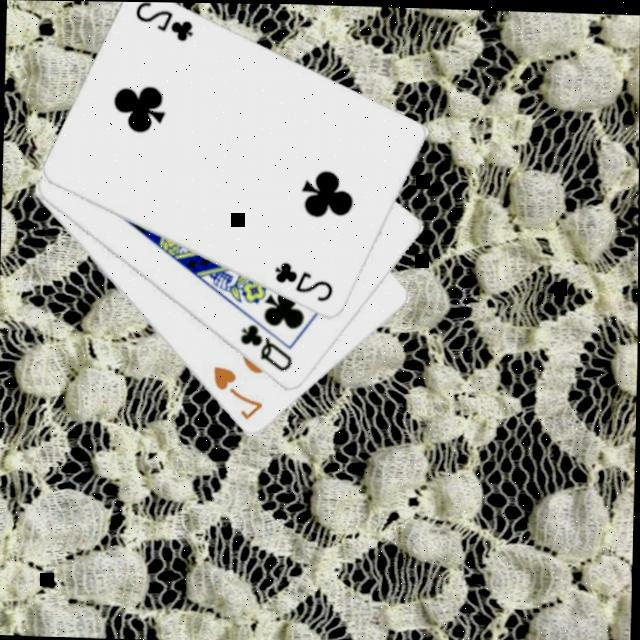2C: (271, 260, 337, 307), (131, 2, 197, 47)
7H: (208, 363, 267, 424)
QC: (237, 321, 297, 377)
